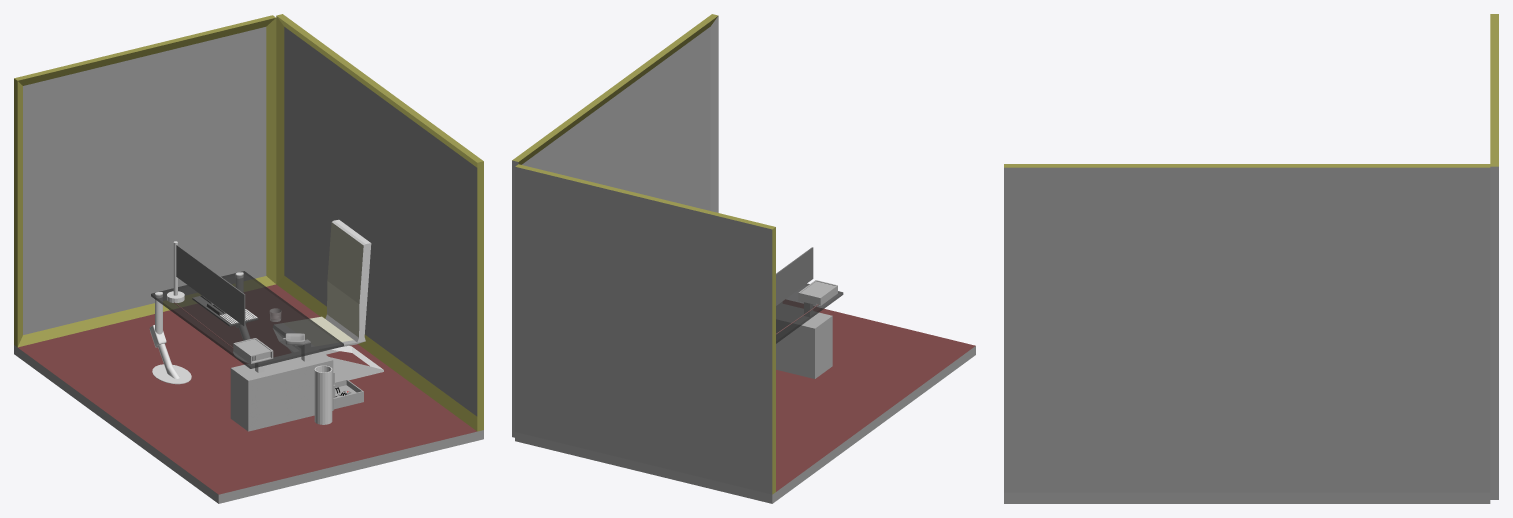
The picture shows the model from 3 angles, left to right: view 1: azimuth 30°, elevation 25°; view 2: azimuth 150°, elevation 25°; view 3: azimuth 270°, elevation 25°; orthographic projection. The views are drawn at different scales.
Visible parts, largest first — view 1: pCube5, pCube8, pCube1, pCube3, pCube6, pCylinder5, pCylinder11, pCube9, pCube7; view 2: pCube5, pCube3, pCube1, pCube6, pCube9; view 3: pCube5.
Part boxes in pixels (left/top/right/bottom): pCube5: left=14, top=14, right=483, bottom=503; pCube8: left=273, top=219, right=383, bottom=381; pCube1: left=151, top=271, right=343, bottom=368; pCube3: left=230, top=347, right=363, bottom=431; pCube6: left=176, top=245, right=245, bottom=326; pCylinder5: left=149, top=292, right=191, bottom=384; pCylinder11: left=314, top=365, right=332, bottom=424; pCube9: left=233, top=338, right=273, bottom=363; pCube7: left=192, top=295, right=258, bottom=326; pCube5: left=512, top=14, right=975, bottom=503; pCube3: left=776, top=303, right=832, bottom=378; pCube1: left=776, top=283, right=843, bottom=343; pCube6: left=776, top=247, right=813, bottom=305; pCube9: left=798, top=280, right=837, bottom=305; pCube5: left=1004, top=14, right=1498, bottom=503.
Size of the model in its own units: 34.23 by 34.3 by 45.74.
